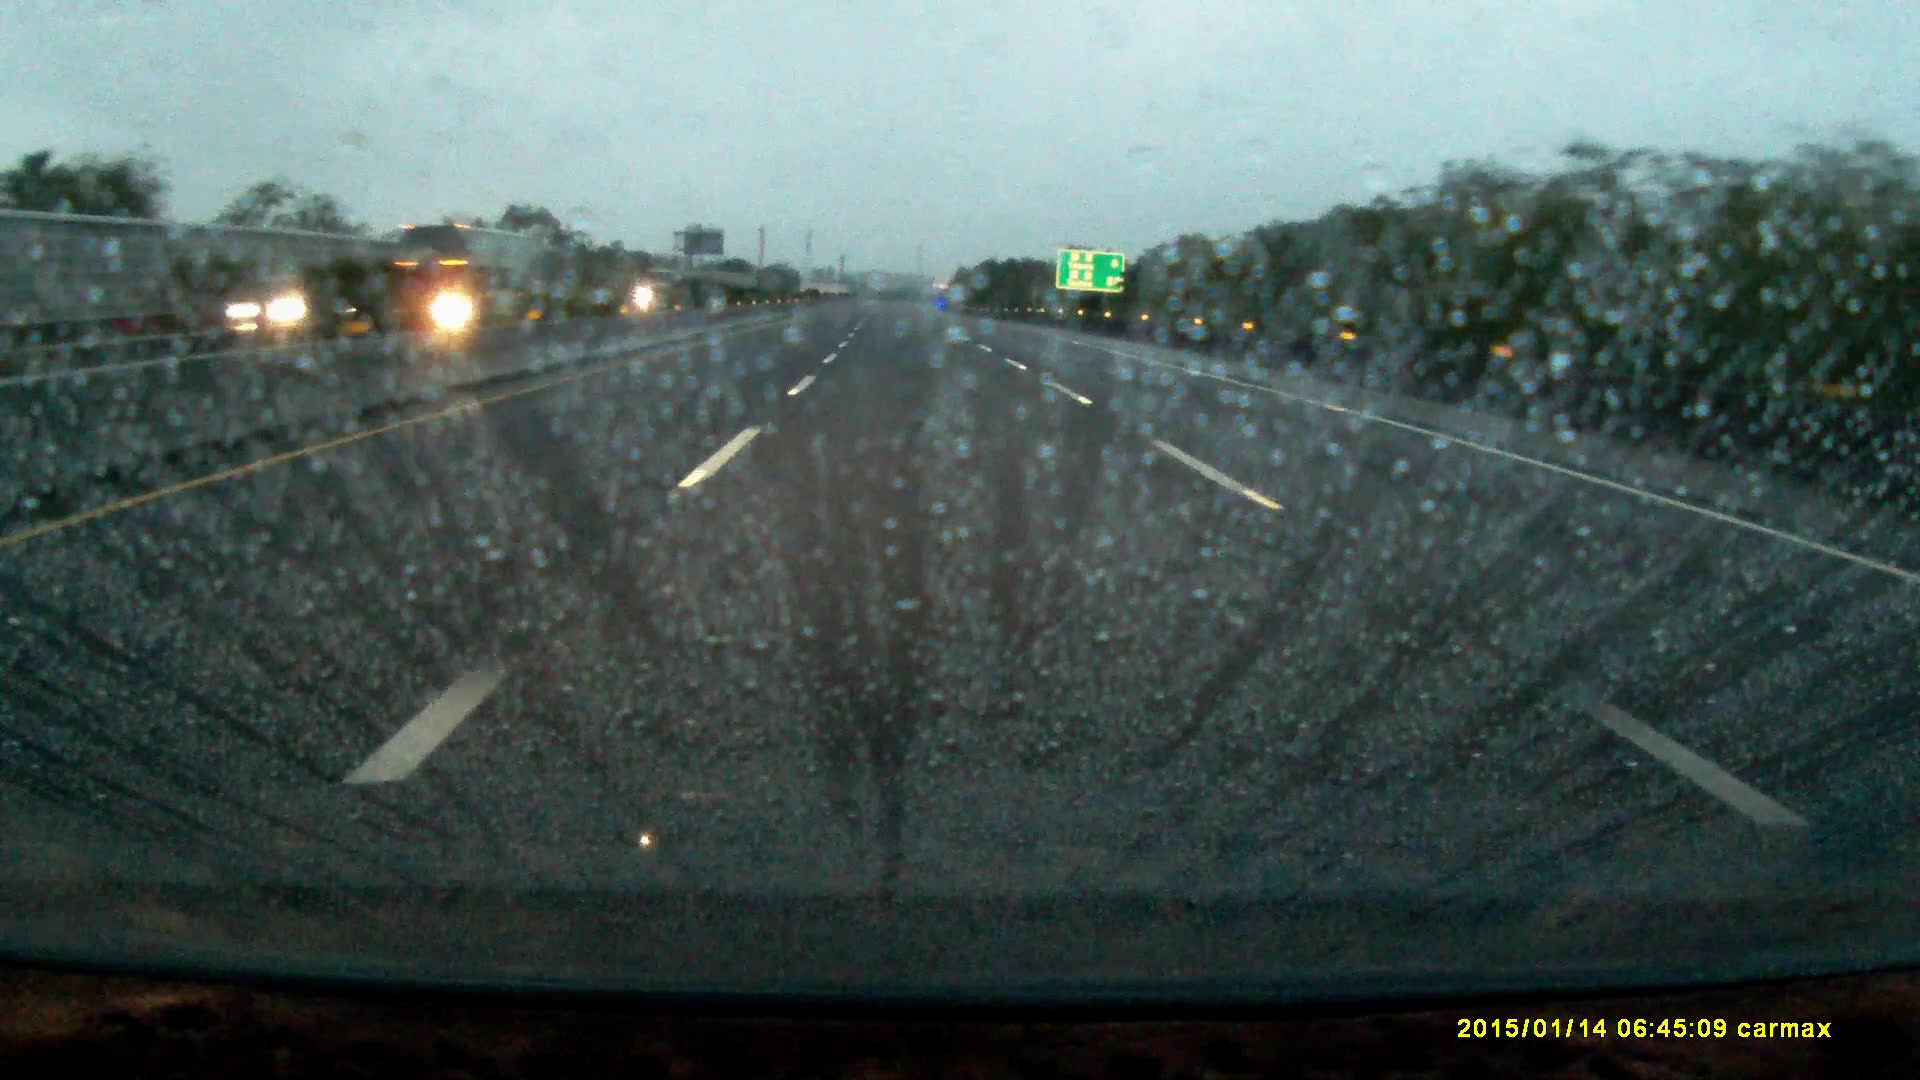vehicle: (382, 222, 537, 324), (229, 277, 348, 340), (642, 269, 694, 306)
